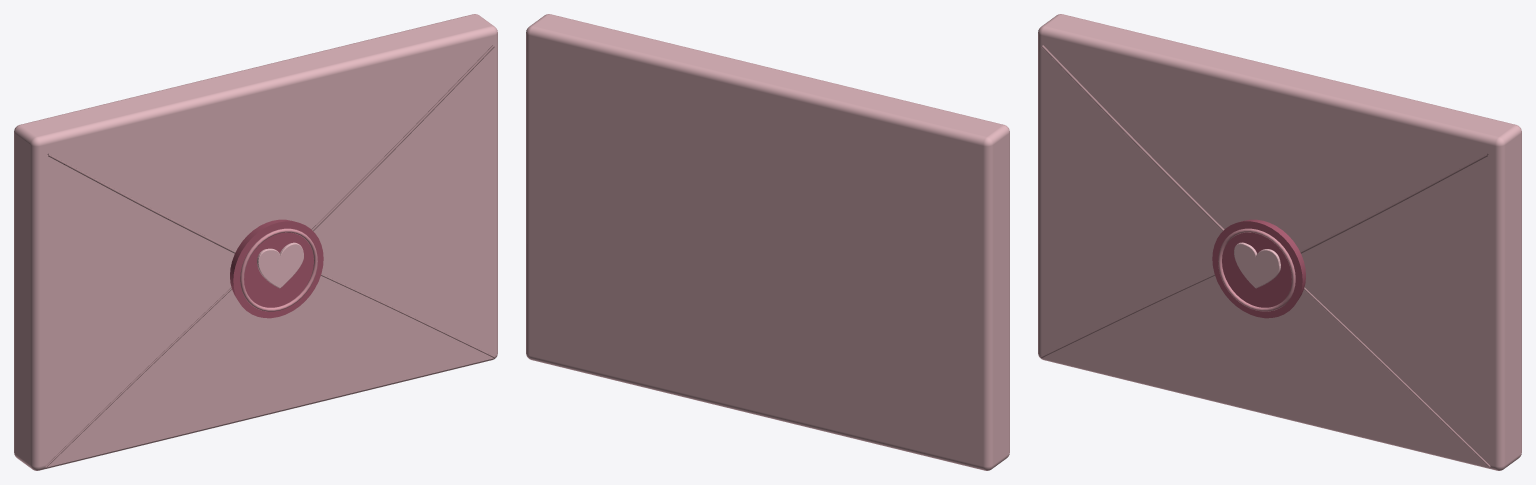
File: sealed-envelope.glb
The picture shows the model from 3 angles, left to right: view 1: azimuth 30°, elevation 25°; view 2: azimuth 150°, elevation 25°; view 3: azimuth 330°, elevation 25°; orthographic projection.
Parts seen in each view (by area): view 1: sealed-envelope-paper:#ddb4bb, sealed-envelope-satin:#ad5c72, sealed-envelope-paper:#b08c92, sealed-envelope-satin:#ebbec6, sealed-envelope-satin:#d798a5; view 2: sealed-envelope-paper:#ddb4bb; view 3: sealed-envelope-paper:#ddb4bb, sealed-envelope-satin:#ad5c72, sealed-envelope-paper:#b08c92, sealed-envelope-satin:#ebbec6, sealed-envelope-satin:#d798a5.
Boxes of the visible parts, x1=… form: sealed-envelope-paper:#ddb4bb: x1=14, y1=14, x2=497, y2=470; sealed-envelope-satin:#ad5c72: x1=230, y1=219, x2=323, y2=318; sealed-envelope-paper:#b08c92: x1=45, y1=45, x2=495, y2=467; sealed-envelope-satin:#ebbec6: x1=257, y1=242, x2=303, y2=288; sealed-envelope-satin:#d798a5: x1=240, y1=228, x2=317, y2=311; sealed-envelope-paper:#ddb4bb: x1=526, y1=14, x2=1009, y2=470; sealed-envelope-paper:#ddb4bb: x1=1038, y1=14, x2=1521, y2=470; sealed-envelope-satin:#ad5c72: x1=1212, y1=219, x2=1305, y2=318; sealed-envelope-paper:#b08c92: x1=1040, y1=45, x2=1490, y2=467; sealed-envelope-satin:#ebbec6: x1=1234, y1=242, x2=1280, y2=288; sealed-envelope-satin:#d798a5: x1=1218, y1=228, x2=1295, y2=311.
Bounding box in the file's own units: 1.58 × 1.08 × 0.2105.
